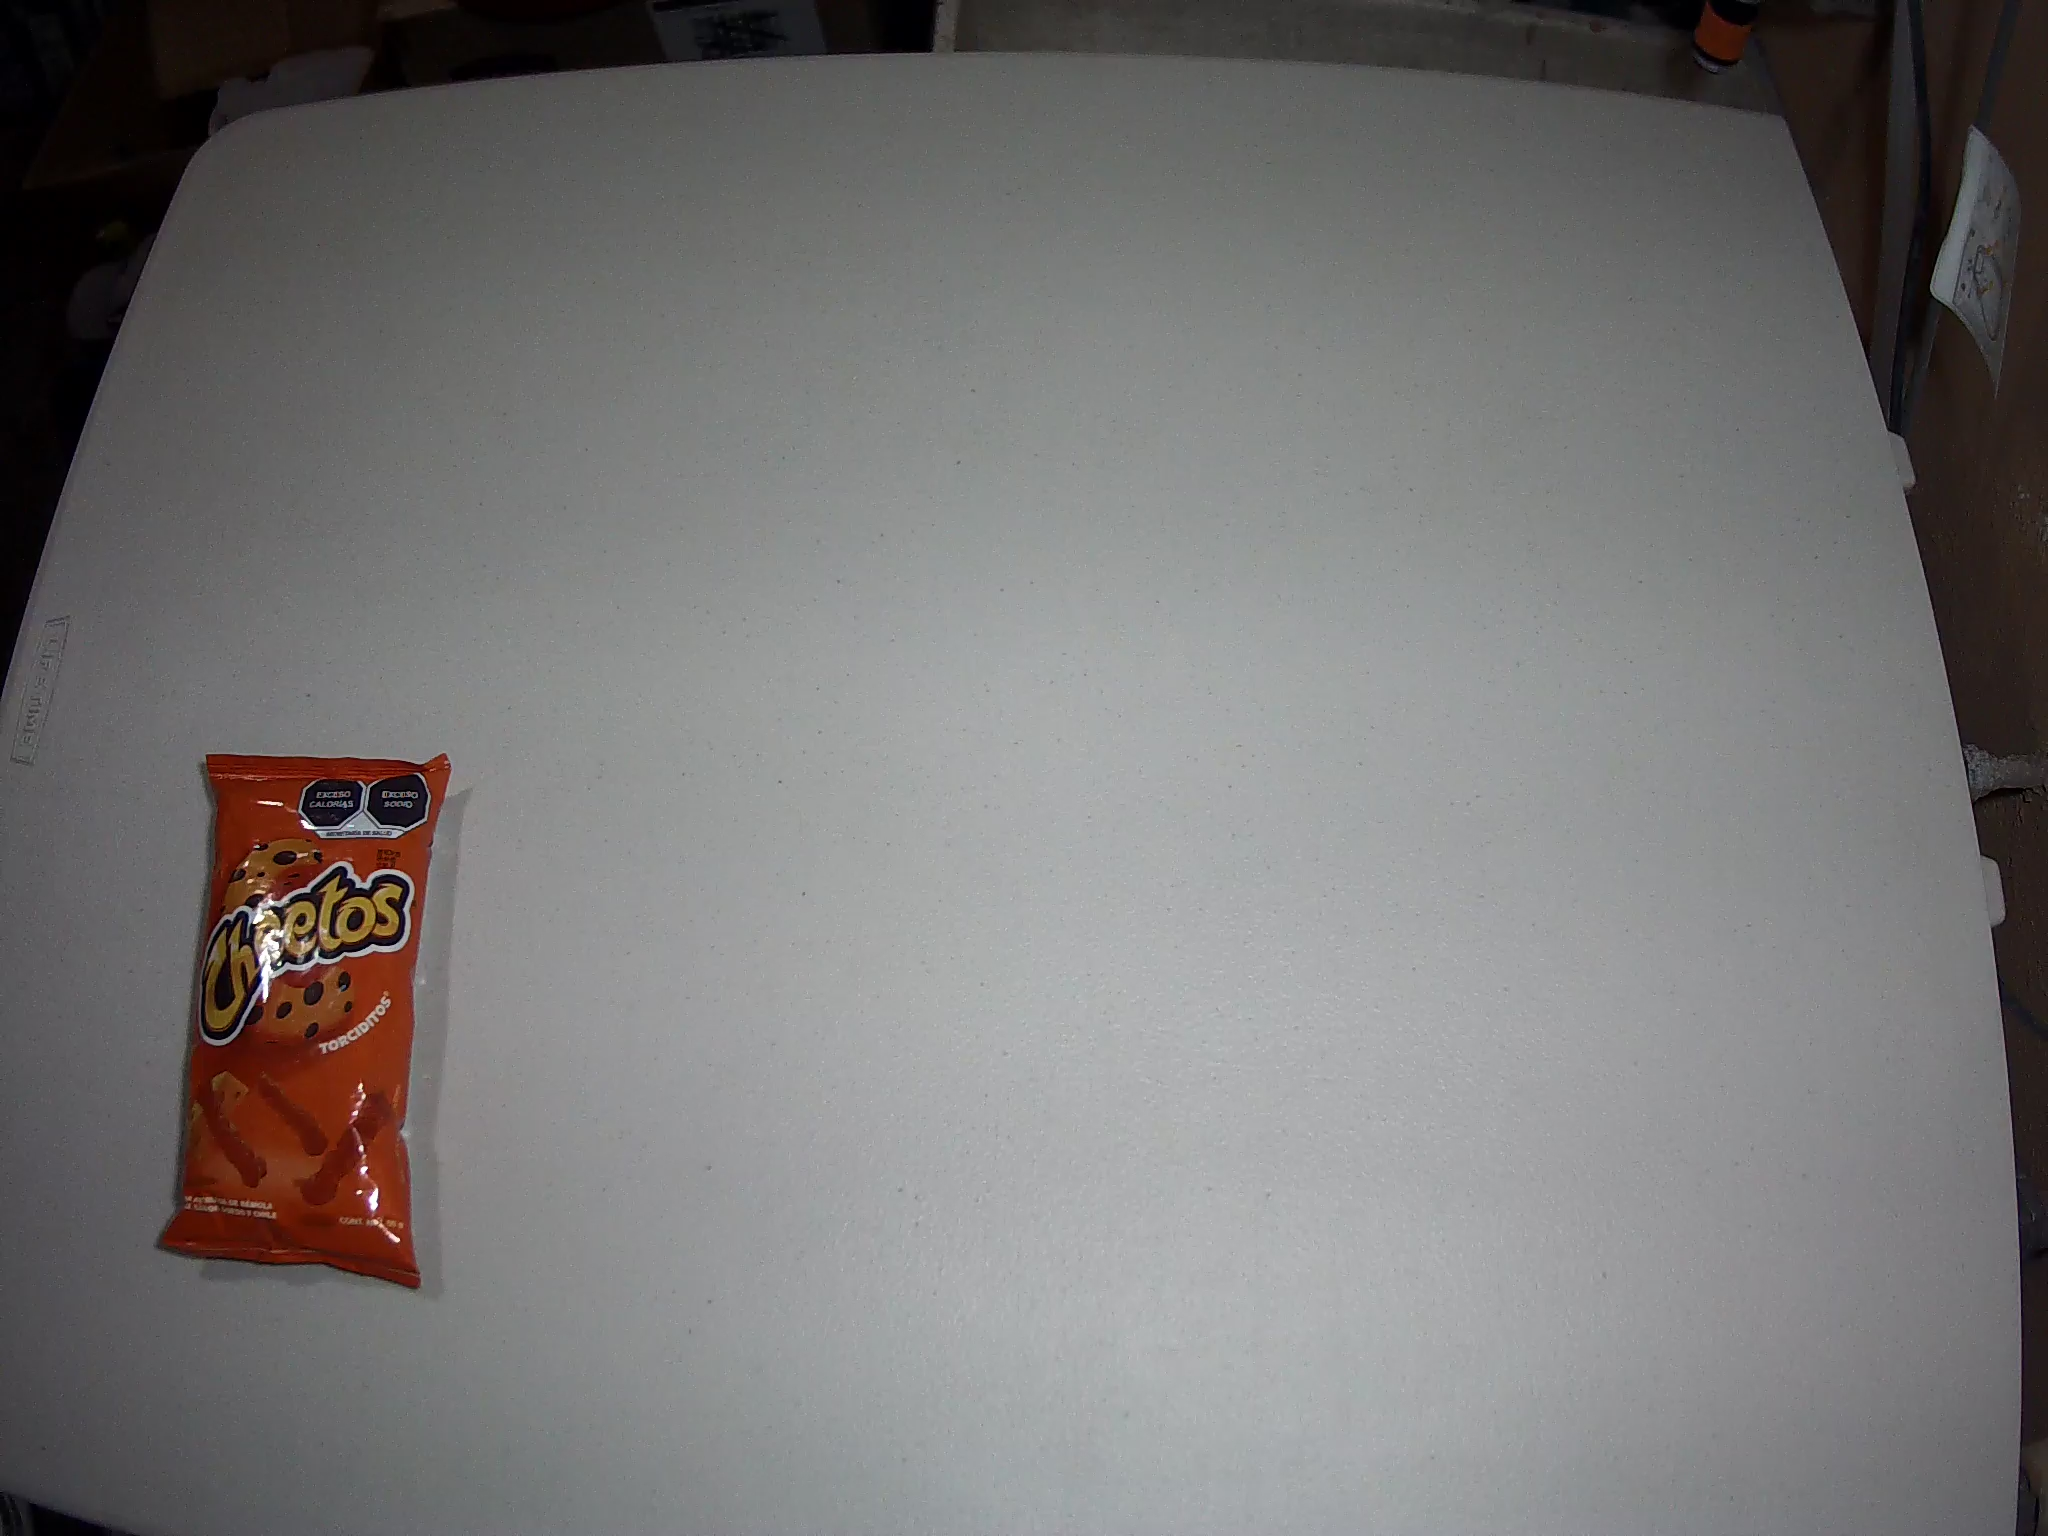CheetosTorciditos_55_F: (155, 753, 453, 1288)
